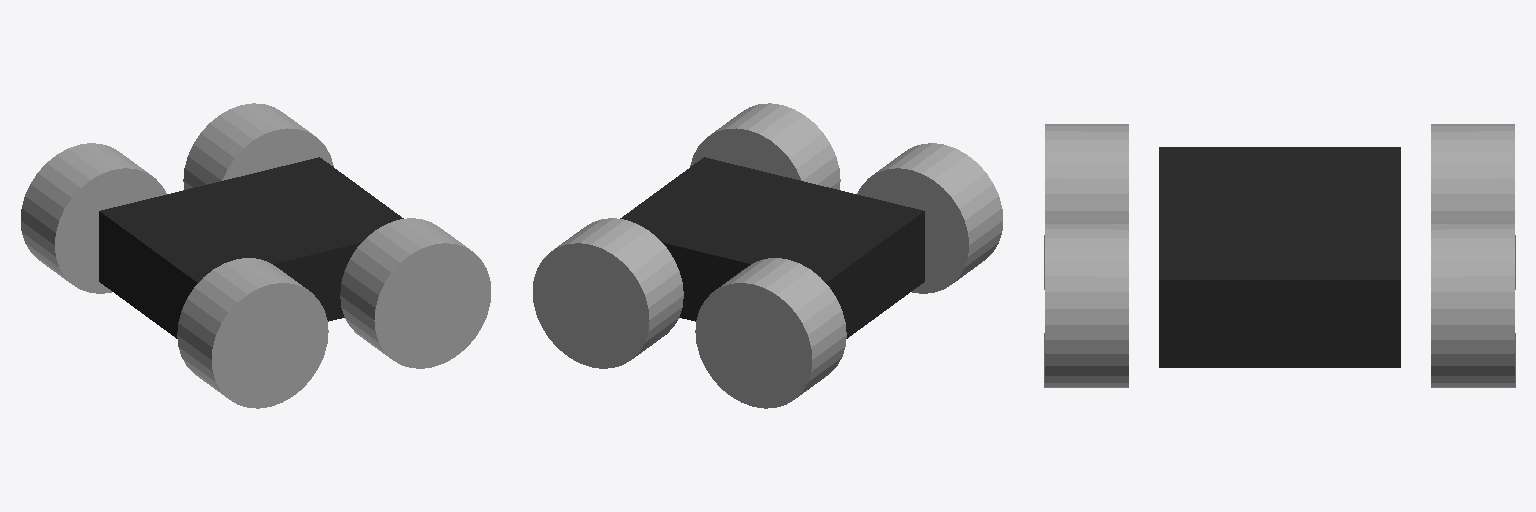
URDF robot description (wifibot):
<?xml version="1.0" ?>
<!-- =================================================================================== -->
<!-- |    This document was autogenerated by xacro from wifibot_arm_description/urdf/wifibot.xacro | -->
<!-- |    EDITING THIS FILE BY HAND IS NOT RECOMMENDED                                 | -->
<!-- =================================================================================== -->
<robot name="wifibot">
  <material name="black">
    <color rgba="0.2 0.2 0.2 0.6"/>
  </material>
  <material name="blue">
    <color rgba="0.0 0.0 0.8 1.0"/>
  </material>
  <material name="green">
    <color rgba="0.0 0.8 0.0 1.0"/>
  </material>
  <material name="gray">
    <color rgba="0.7 0.7 0.7 1.0"/>
  </material>
  <!-- Châssis -->
  <link name="base_link">
    </link>
  <joint name="chassis_joint" type="fixed">
    <parent link="base_link"/>
    <child link="chassis_link"/>
    <origin rpy="0 0 0" xyz="-0.1 0 0"/>
  </joint>
  <link name="chassis_link">
    <visual>
      <origin rpy="0 0 0" xyz="0.13 0 0"/>
      <geometry>
        <box size="0.26 0.2 0.08"/>
      </geometry>
      <material name="black"/>
    </visual>
    <collision>
      <origin rpy="0 0 0" xyz="0 0 0.06"/>
      <geometry>
        <!--mesh scale="0.001 0.001 0.001" filename="package://manipulator_description/meshes/bow_wifibot.stl"/>-->
        <box size="0.26 0.2 0.08"/>
      </geometry>
    </collision>
  </link>
  <!-- Roue avant gauche -->
  <joint name="front_left_wheel_joint" type="continuous">
    <parent link="base_link"/>
    <child link="front_left_wheel"/>
    <origin rpy="-1.57 0 0" xyz="0.123 0.1 0"/>
    <axis xyz="0 0 1"/>
  </joint>
  <link name="front_left_wheel">
    <inertial>
      <origin rpy="0 0 0" xyz="0 0 0"/>
      <mass value="0.01"/>
      <inertia ixx="7.58333333333e-06" ixy="0.0" ixz="0.0" iyy="7.58333333333e-06" iyz="0.0" izz="1.25e-05"/>
    </inertial>
    <collision>
      <origin rpy="0 0 0" xyz="0 0 0.06"/>
      <geometry>
        <!--mesh filename="package://manipulator_description/meshes/wheel.stl"/>-->
        <cylinder length="0.07" radius="0.069"/>
      </geometry>
    </collision>
    <visual>
      <origin rpy="0 0 0" xyz="0 0 0.06"/>
      <geometry>
        <!--mesh filename="package://manipulator_description/meshes/wheel.stl"/>-->
        <cylinder length="0.07" radius="0.069"/>
      </geometry>
      <material name="gray"/>
    </visual>
  </link>
  <!-- Roue avant droite -->
  <joint name="front_right_wheel_joint" type="continuous">
    <parent link="base_link"/>
    <child link="front_right_wheel"/>
    <origin rpy="1.57 0 0" xyz="0.123 -0.1 0"/>
    <axis xyz="0 0 -1"/>
  </joint>
  <link name="front_right_wheel">
    <inertial>
      <origin rpy="0 0 0" xyz="0 0 0"/>
      <mass value="0.01"/>
      <inertia ixx="7.58333333333e-06" ixy="0.0" ixz="0.0" iyy="7.58333333333e-06" iyz="0.0" izz="1.25e-05"/>
    </inertial>
    <collision>
      <origin rpy="0 0 0" xyz="0 0 0.06"/>
      <geometry>
        <!--mesh filename="package://manipulator_description/meshes/wheel.stl"/>-->
        <cylinder length="0.07" radius="0.069"/>
      </geometry>
    </collision>
    <visual>
      <origin rpy="0 0 0" xyz="0 0 0.06"/>
      <geometry>
        <!--mesh filename="package://manipulator_description/meshes/wheel.stl"/>-->
        <cylinder length="0.07" radius="0.069"/>
      </geometry>
      <material name="gray"/>
    </visual>
  </link>
  <!-- Roue arrière gauche -->
  <joint name="rear_left_wheel_joint" type="continuous">
    <parent link="base_link"/>
    <child link="rear_left_wheel"/>
    <origin rpy="-1.57 0 0" xyz="-0.069 0.1 0"/>
    <axis xyz="0 0 1"/>
  </joint>
  <link name="rear_left_wheel">
    <inertial>
      <origin rpy="0 0 0" xyz="0 0 0"/>
      <mass value="0.01"/>
      <inertia ixx="7.58333333333e-06" ixy="0.0" ixz="0.0" iyy="7.58333333333e-06" iyz="0.0" izz="1.25e-05"/>
    </inertial>
    <collision>
      <origin rpy="0 0 0" xyz="0 0 0.06"/>
      <geometry>
        <!--mesh filename="package://manipulator_description/meshes/wheel.stl"/>-->
        <cylinder length="0.07" radius="0.069"/>
      </geometry>
    </collision>
    <visual>
      <origin rpy="0 0 0" xyz="0 0 0.06"/>
      <geometry>
        <!--mesh filename="package://manipulator_description/meshes/wheel.stl"/>-->
        <cylinder length="0.07" radius="0.069"/>
      </geometry>
      <material name="gray"/>
    </visual>
  </link>
  <!-- Roue arrière droite -->
  <joint name="rear_right_wheel_joint" type="continuous">
    <parent link="base_link"/>
    <child link="rear_right_wheel"/>
    <origin rpy="1.57 0 0" xyz="-0.069  -0.1 0"/>
    <axis xyz="0 0 -1"/>
  </joint>
  <link name="rear_right_wheel">
    <inertial>
      <origin rpy="0 0 0" xyz="0 0 0"/>
      <mass value="0.01"/>
      <inertia ixx="7.58333333333e-06" ixy="0.0" ixz="0.0" iyy="7.58333333333e-06" iyz="0.0" izz="1.25e-05"/>
    </inertial>
    <collision>
      <origin rpy="0 0 0" xyz="0 0 0.06"/>
      <geometry>
        <!--mesh filename="package://manipulator_description/meshes/wheel.stl"/>-->
        <cylinder length="0.07" radius="0.069"/>
      </geometry>
    </collision>
    <visual>
      <origin rpy="0 0 0" xyz="0 0 0.06"/>
      <geometry>
        <!--mesh filename="package://manipulator_description/meshes/wheel.stl"/>-->
        <cylinder length="0.07" radius="0.069"/>
      </geometry>
      <material name="gray"/>
    </visual>
  </link>
</robot>

--- What the picture shows (computed from the rendered views, not written in the file) ---
The picture shows the robot from 3 angles, left to right: view 1: azimuth 30°, elevation 25°; view 2: azimuth 150°, elevation 25°; view 3: azimuth 270°, elevation 25°; orthographic projection.
Model wifibot with 6 links and 5 joints (4 continuous, 1 fixed), rooted at base_link, posed all joints at 0.
Visible links, largest first — view 1: chassis_link, rear_right_wheel, front_right_wheel, rear_left_wheel, front_left_wheel; view 2: chassis_link, rear_left_wheel, front_left_wheel, rear_right_wheel, front_right_wheel; view 3: chassis_link, front_left_wheel, front_right_wheel, rear_left_wheel, rear_right_wheel.
Boxes of the visible links, x1,y1,x2,y2 form: chassis_link: (99,157,403,338); rear_right_wheel: (177,258,328,408); front_right_wheel: (340,218,490,368); rear_left_wheel: (21,143,166,293); front_left_wheel: (183,103,333,189); chassis_link: (620,157,924,338); rear_left_wheel: (695,258,846,408); front_left_wheel: (533,218,683,368); rear_right_wheel: (857,143,1002,293); front_right_wheel: (690,103,840,189); chassis_link: (1159,147,1400,367); front_left_wheel: (1431,222,1515,387); front_right_wheel: (1044,222,1128,387); rear_left_wheel: (1431,124,1515,289); rear_right_wheel: (1044,124,1128,289).
Size in the robot's own frame: 0.33 by 0.3901 by 0.1381 metres.
Geometry: primitives only (box / cylinder / sphere), no mesh files.